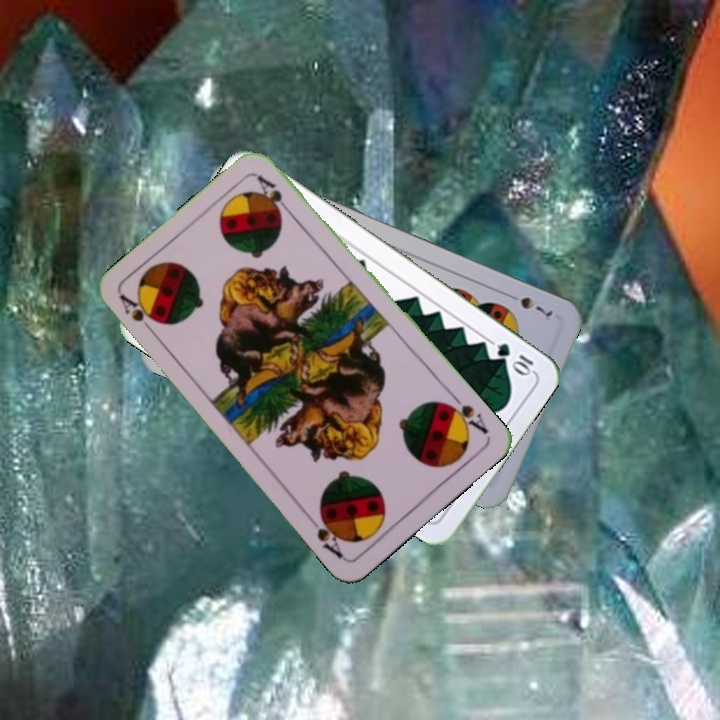G10: (492, 338, 536, 378)
S7: (502, 289, 556, 322)
SA: (439, 389, 492, 438), (115, 291, 160, 340)
